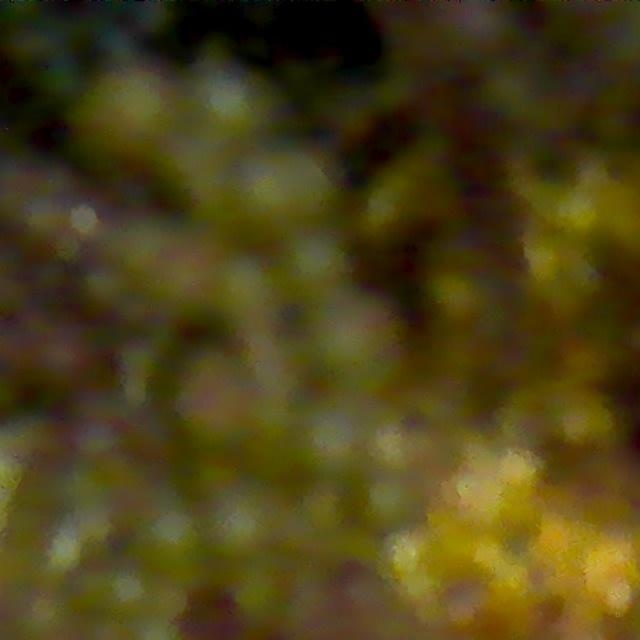SeaGrape: (240, 144, 338, 230), (86, 65, 177, 156), (206, 490, 279, 562), (133, 500, 203, 572), (282, 229, 350, 295), (363, 475, 425, 534), (231, 564, 287, 626)
